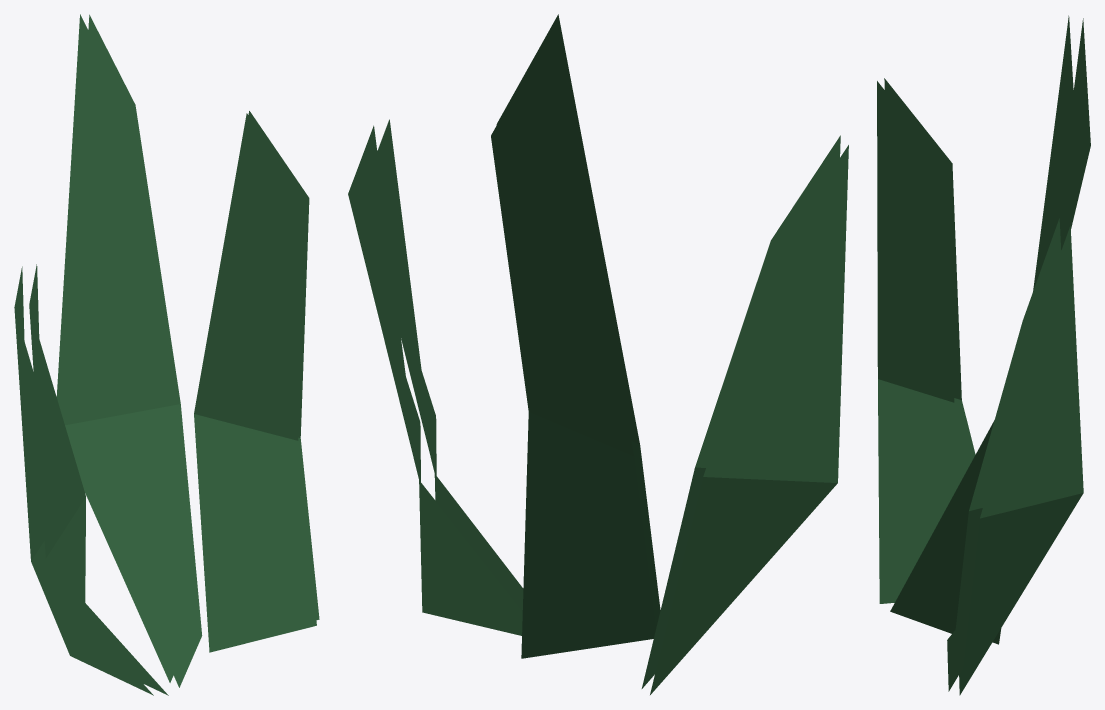
Rendered from grass_02.fbx.
3 renders of one model, left to right at view 1: azimuth 30°, elevation 25°; view 2: azimuth 150°, elevation 25°; view 3: azimuth 270°, elevation 25°, orthographic. The views are drawn at different scales.
Parts seen in each view (by area): view 1: grass_02; view 2: grass_02; view 3: grass_02.
Part boxes in pixels (box(x1,y1,x2,y2)): grass_02: box(14, 14, 319, 695); grass_02: box(348, 14, 848, 694); grass_02: box(877, 15, 1090, 695).
Size of the model in its own units: 1.22 by 1.95 by 0.6339.
